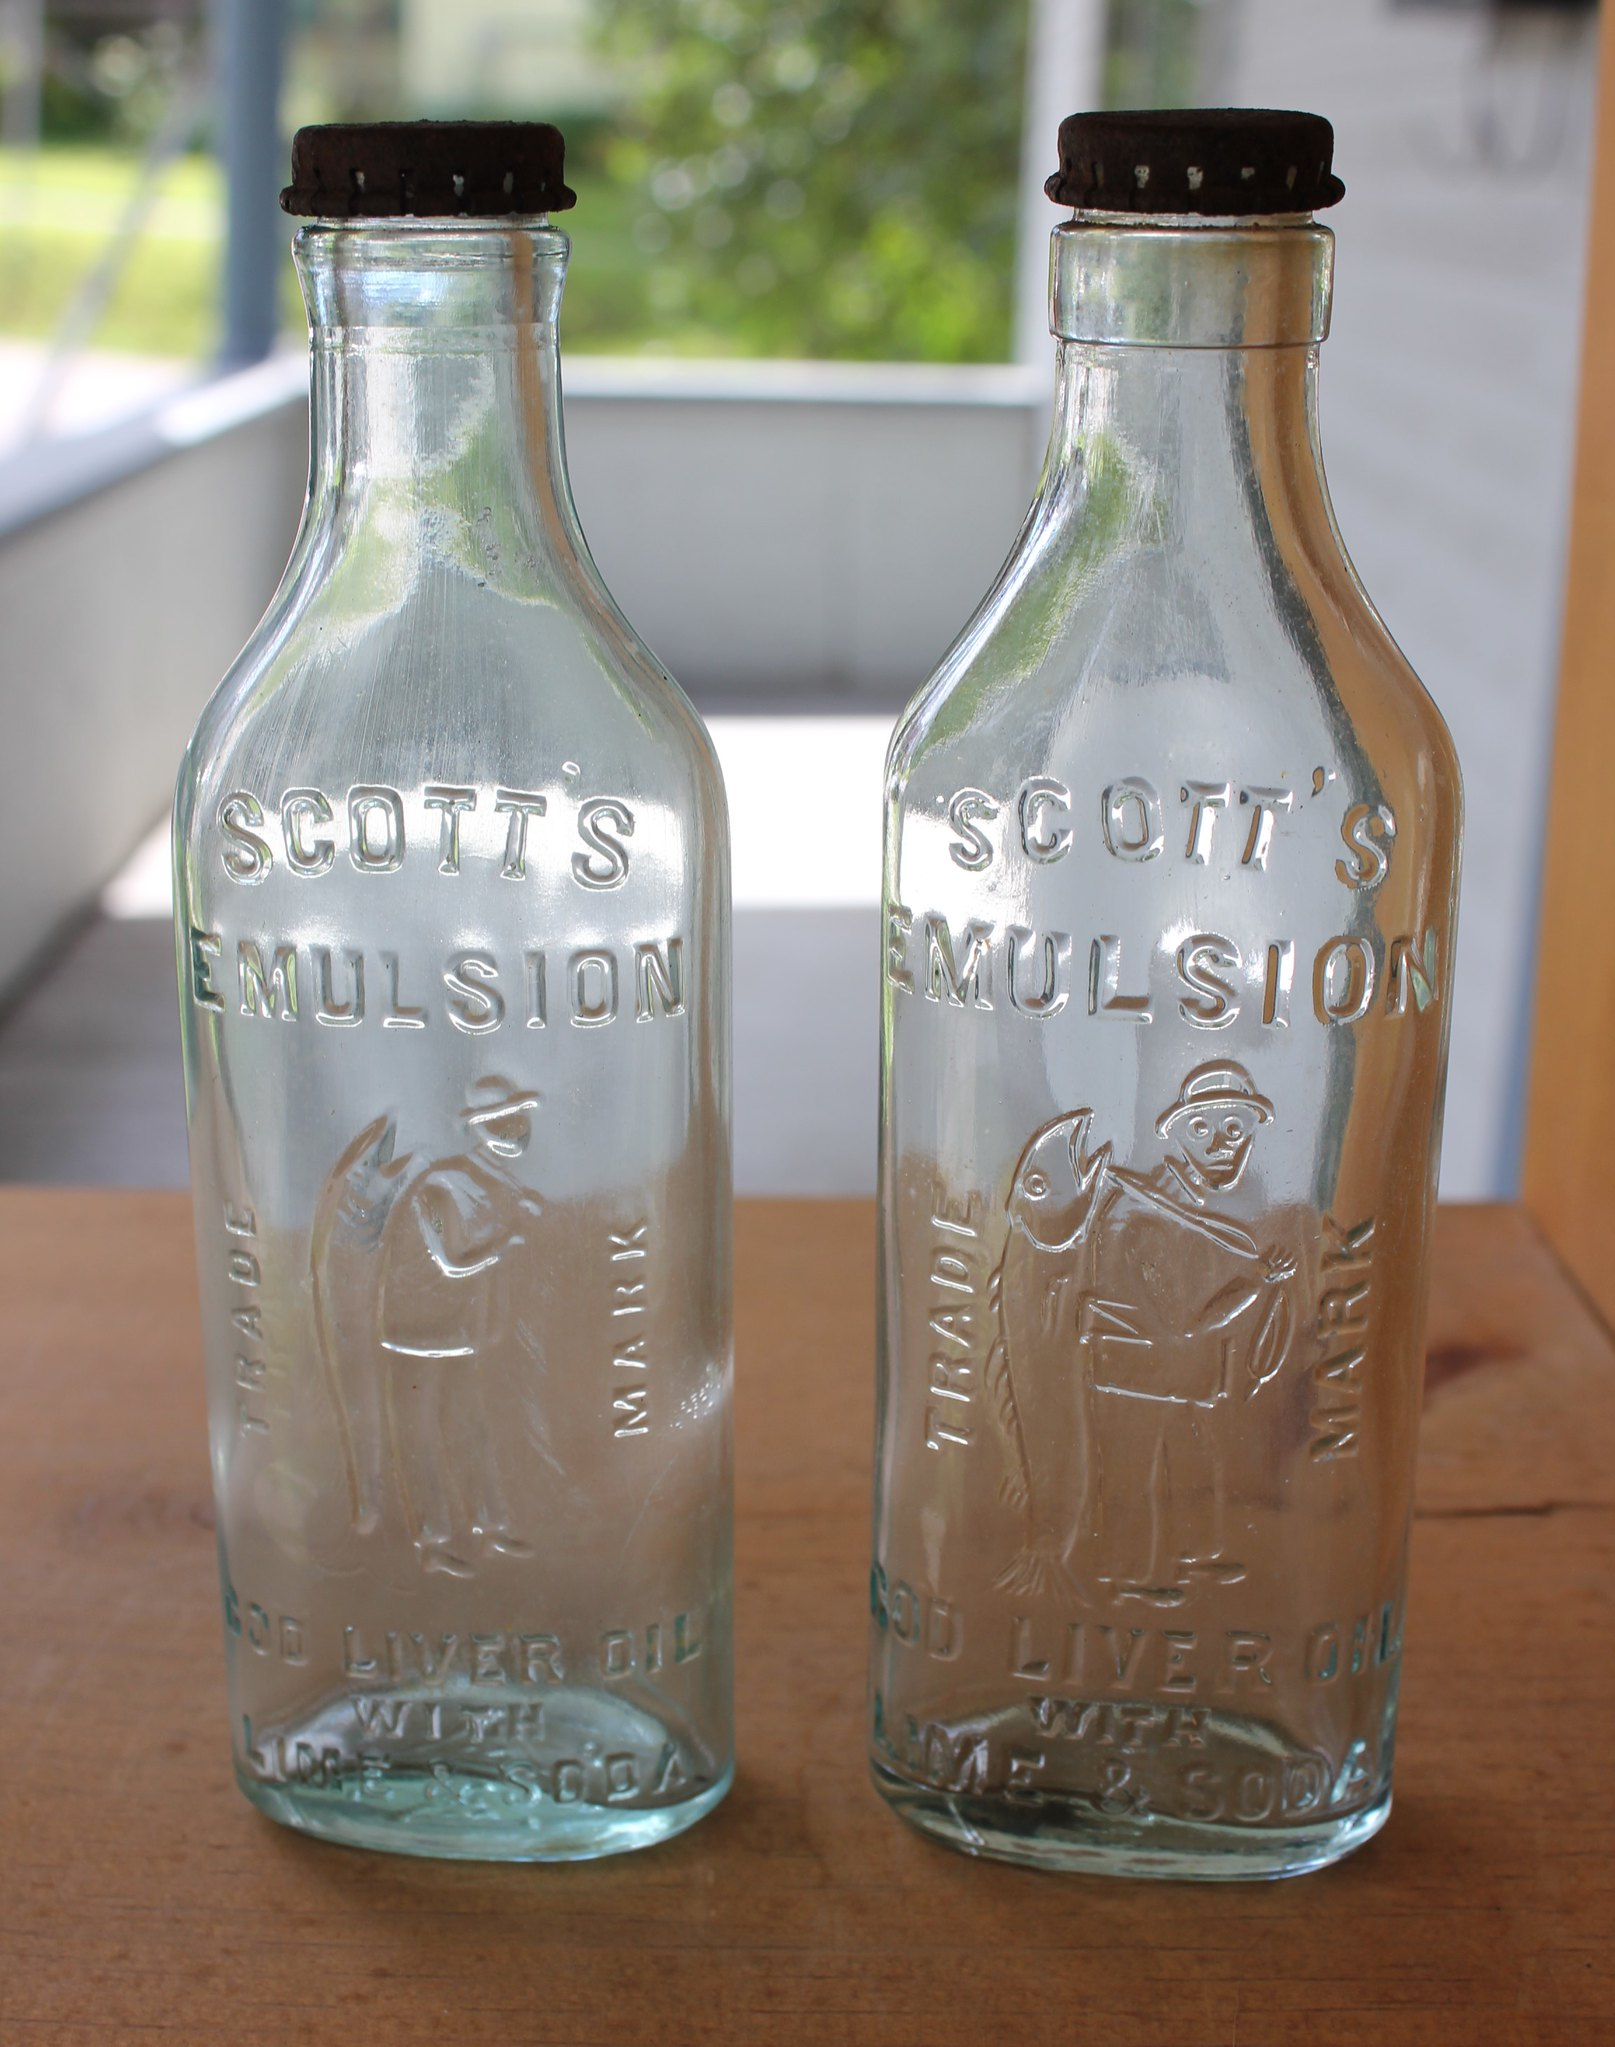bottle: (869, 108, 1464, 1883), (189, 115, 743, 1863)
